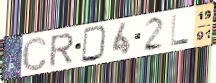2: (141, 16, 167, 53)
4: (111, 20, 132, 57)
C: (21, 35, 48, 72)
D: (80, 24, 109, 64)
L: (170, 13, 191, 47)
R: (48, 32, 76, 69)
